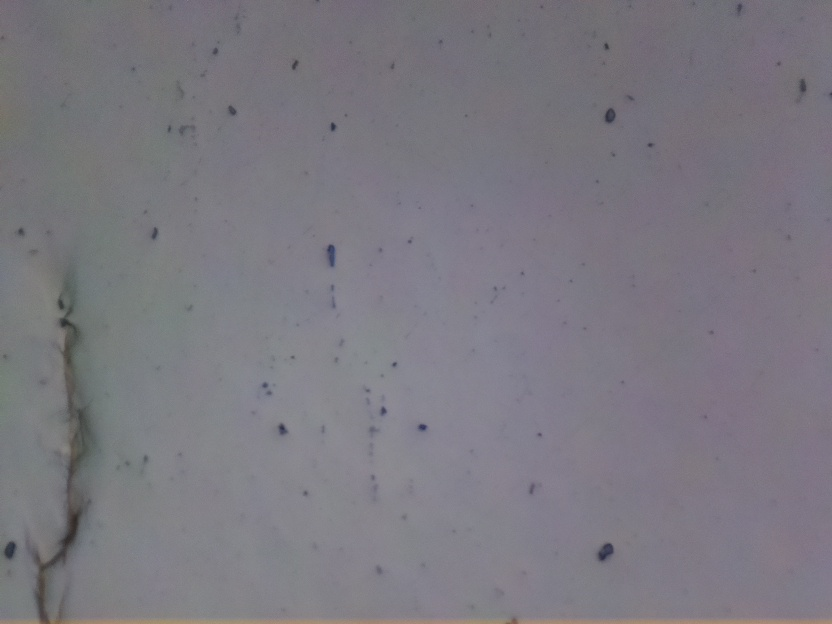crack: (27, 277, 94, 624)
